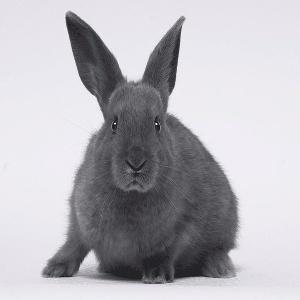rabbit: (43, 13, 238, 282)
